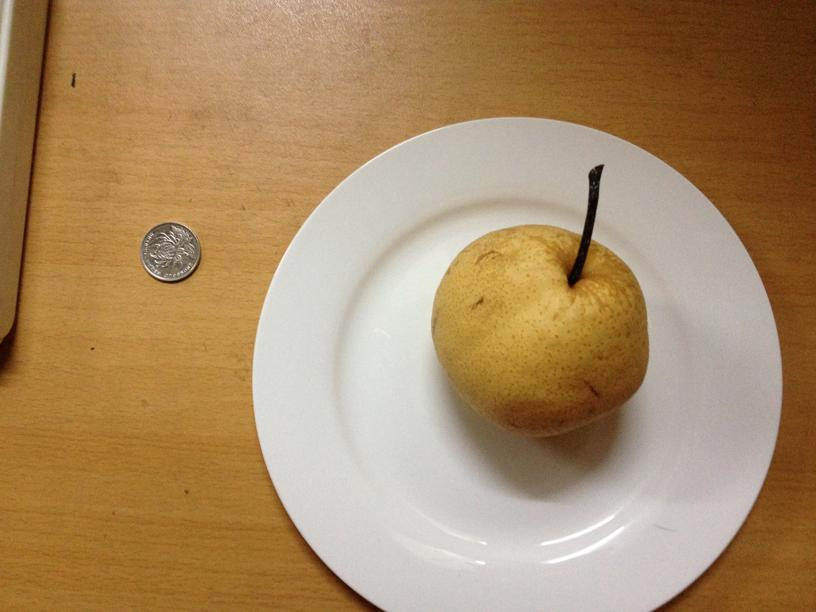coin: (141, 220, 202, 280)
pear: (435, 225, 650, 438)
